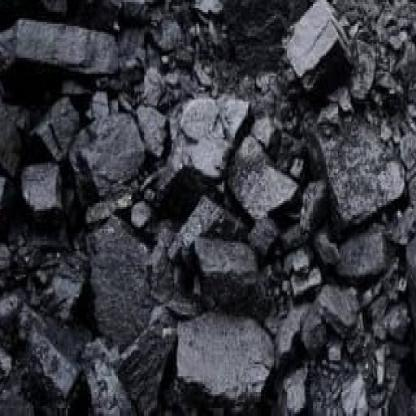Sedimentary_coal: (141, 80, 269, 229), (162, 299, 276, 412), (77, 217, 170, 348), (0, 11, 132, 102), (313, 127, 402, 225), (273, 4, 363, 74)
